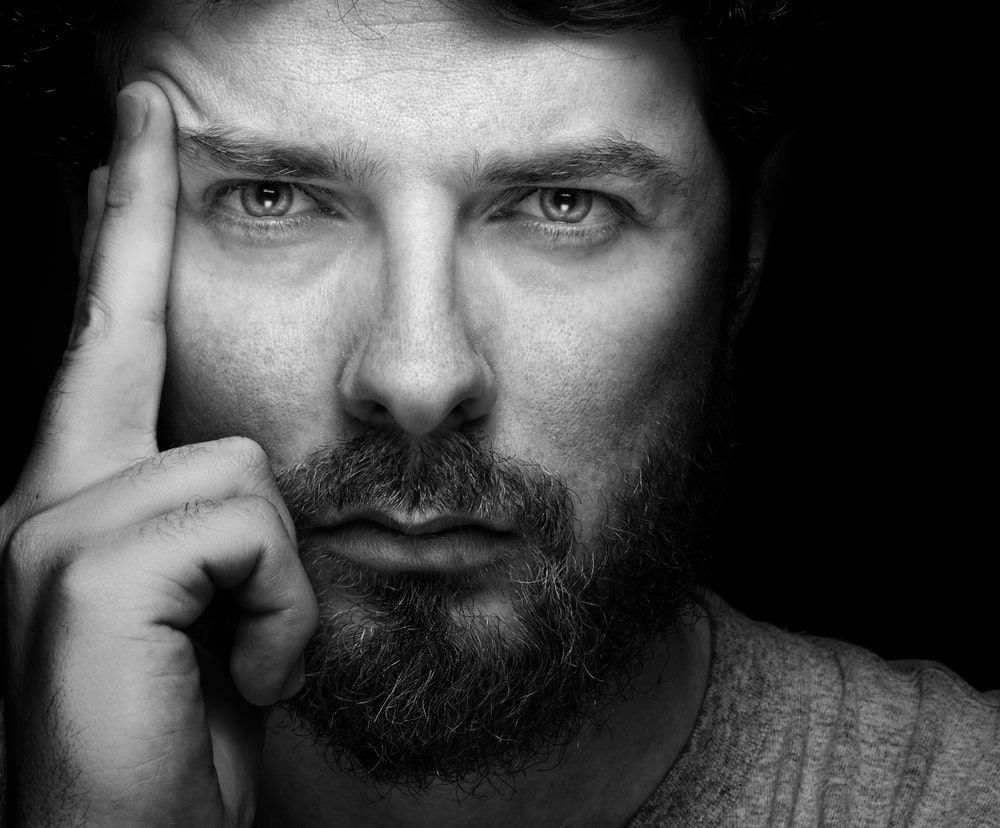without_mask: (150, 74, 724, 750)
